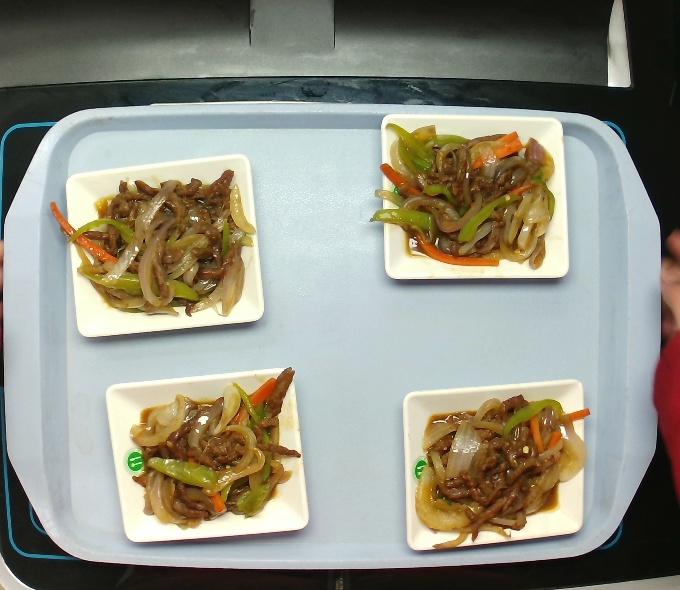wcq-NiuYangCongNiuLiu: (55, 157, 264, 321), (123, 358, 305, 535), (414, 388, 584, 540), (376, 121, 551, 267)
